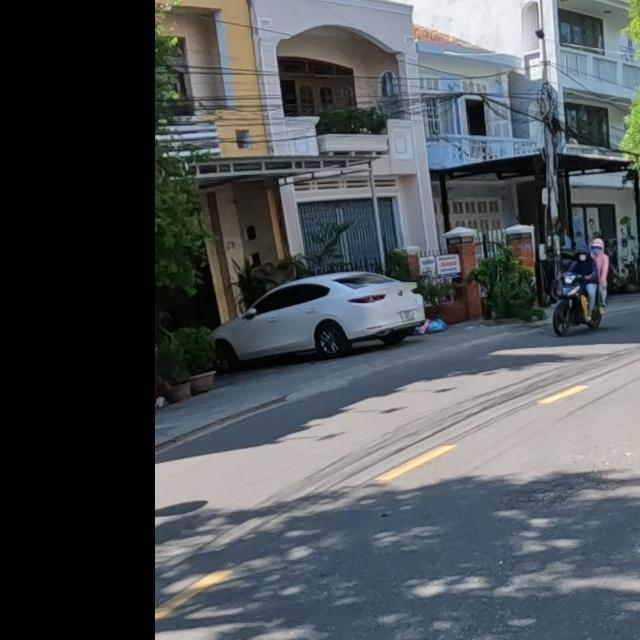license-plate: (400, 311, 413, 320)
